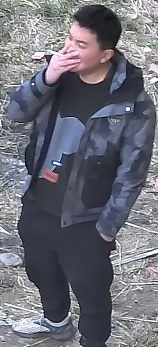smoking: (6, 6, 136, 114)
